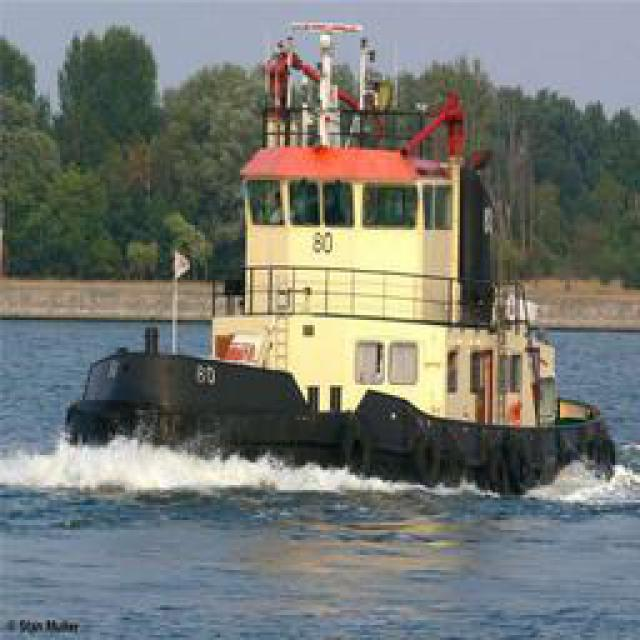Ship: (42, 15, 636, 510)
